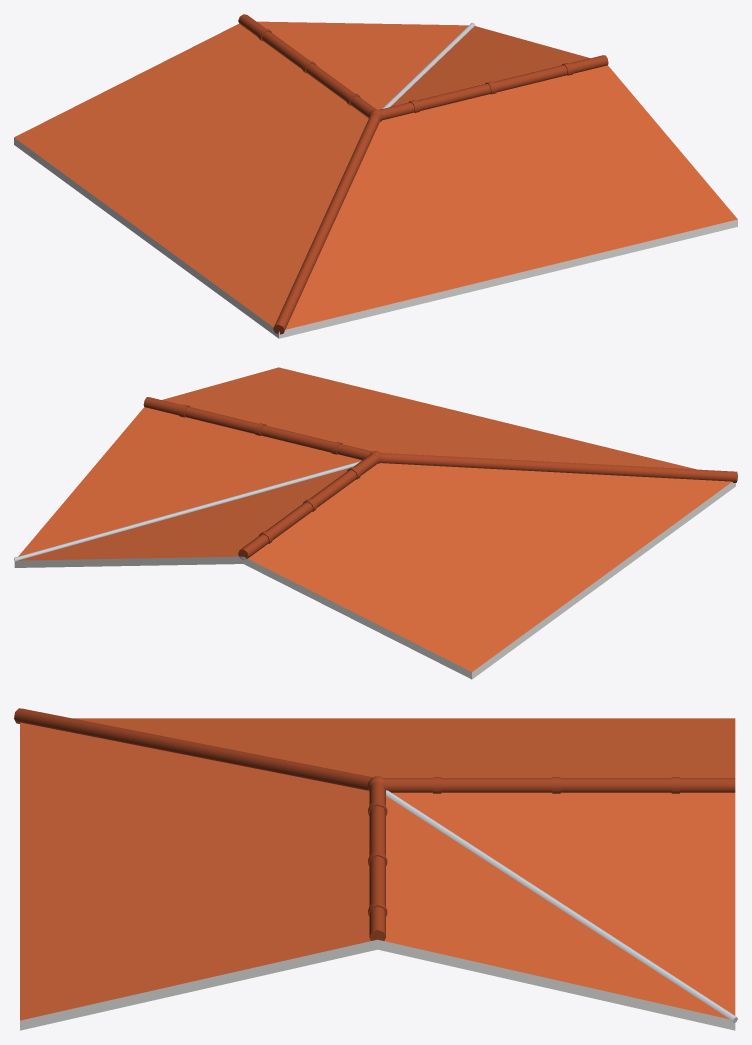
Rendered from telhado_canto_l_v6_i25.glb.
3 renders of one model, top to bottom at view 1: azimuth 30°, elevation 25°; view 2: azimuth 150°, elevation 25°; view 3: azimuth 270°, elevation 25°, orthographic. The views are drawn at different scales.
Parts seen in each view (by area): view 1: telhado_canto_l_v6_i25; view 2: telhado_canto_l_v6_i25; view 3: telhado_canto_l_v6_i25.
Boxes of the visible parts, x1,y1,x2,y2 form: telhado_canto_l_v6_i25: [14, 14, 737, 338]; telhado_canto_l_v6_i25: [14, 367, 737, 679]; telhado_canto_l_v6_i25: [14, 708, 737, 1030].
Size of the model in its own units: 6.07 by 0.9478 by 6.07.
4 materials, 1 textured.
